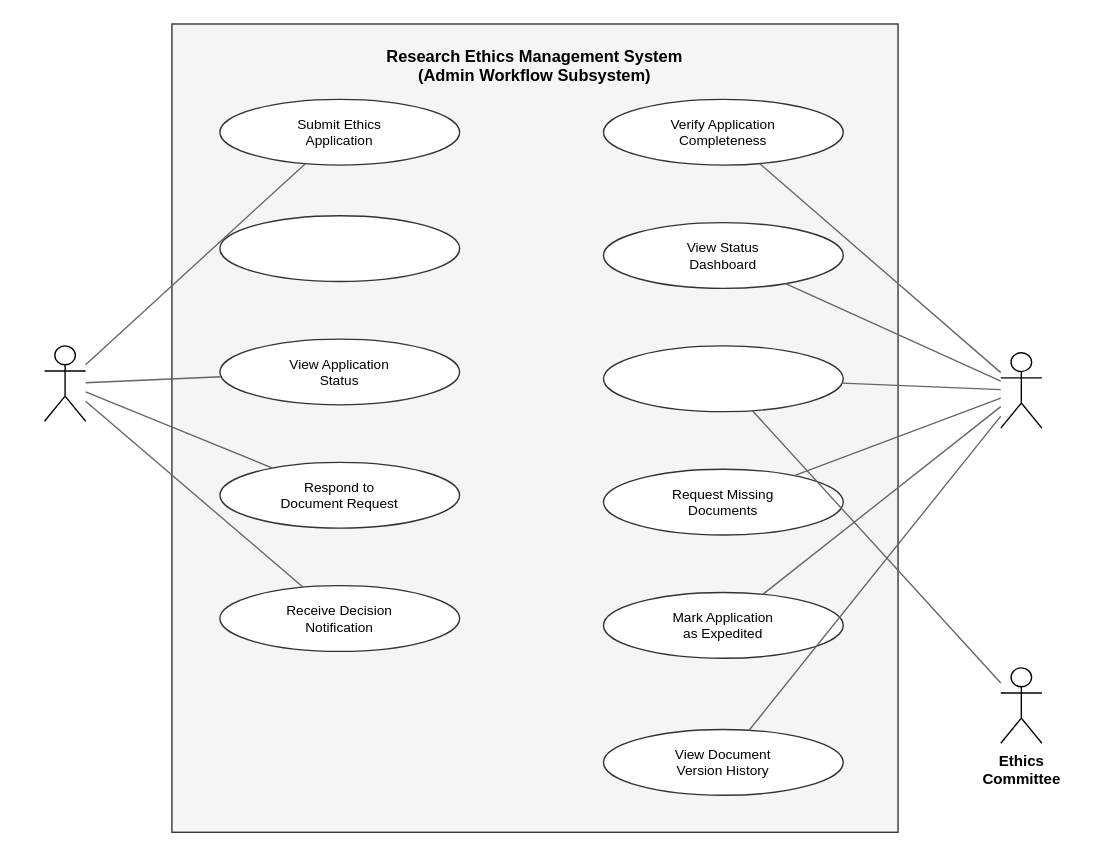
Some shapes in this 1096 by 856 pixel diagram are drawn without their labels. The centre of each missing label's shape, as x and y in pixels:
"Administrative Staff" goes at [1020,389].
"Forward Application to Committee" goes at [722,378].
"Researcher" goes at [64,383].
"Upload Supporting Documents" goes at [339,248].
